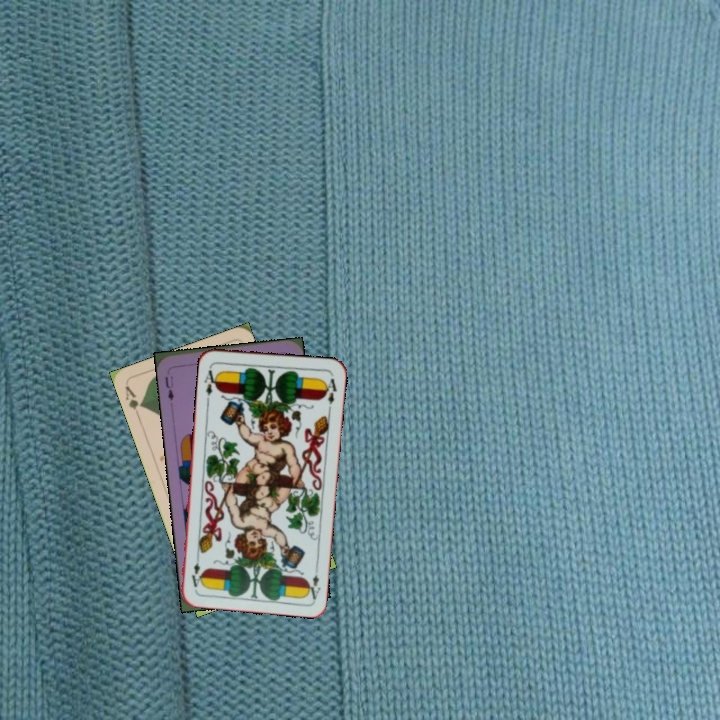EA: (303, 561, 323, 602), (200, 363, 221, 398)
EU: (161, 372, 176, 403)
GA: (121, 381, 146, 421)
